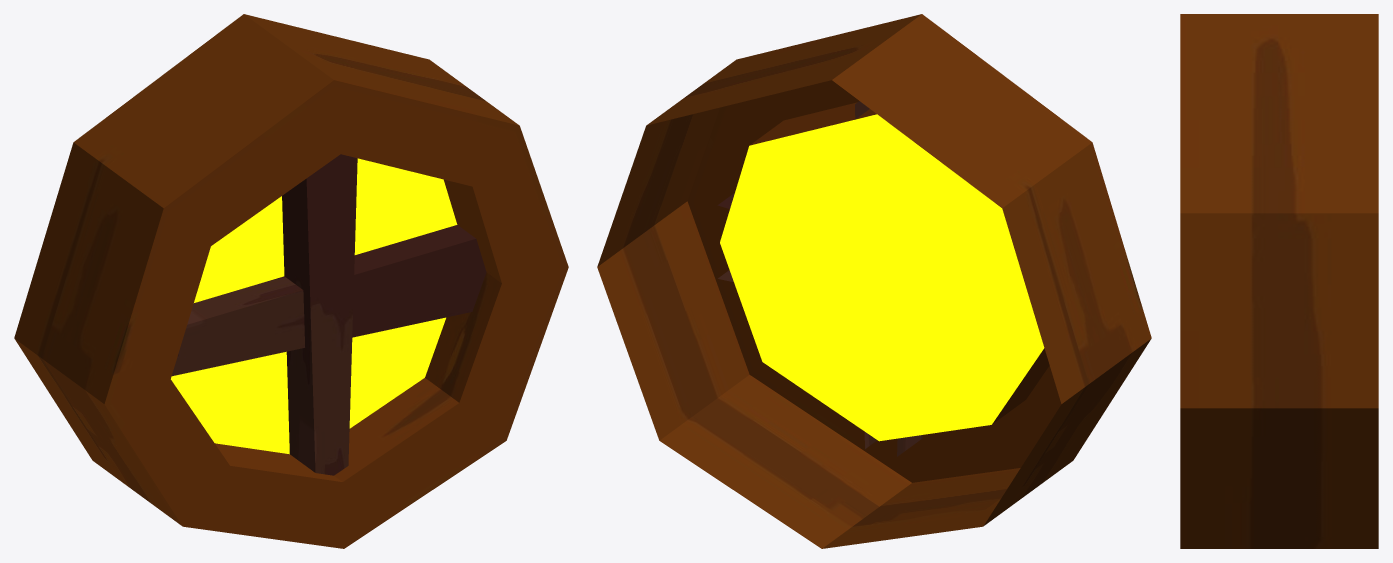
File: SM_BLD_window_v07_01.glb
The picture shows the model from 3 angles, left to right: view 1: azimuth 30°, elevation 25°; view 2: azimuth 150°, elevation 25°; view 3: azimuth 270°, elevation 25°; orthographic projection. The views are drawn at different scales.
Visible parts, largest first — view 1: SM_BLD_window_v07_01_EXPORT; view 2: SM_BLD_window_v07_01_EXPORT; view 3: SM_BLD_window_v07_01_EXPORT.
Part boxes in pixels (left/top/right/bottom): SM_BLD_window_v07_01_EXPORT: left=14, top=14, right=568, bottom=548; SM_BLD_window_v07_01_EXPORT: left=597, top=14, right=1151, bottom=548; SM_BLD_window_v07_01_EXPORT: left=1180, top=14, right=1378, bottom=548.
Bounding box in the file's own units: 1.22 × 1.19 × 0.4124.
Materials: 3 (3 with a texture image).
